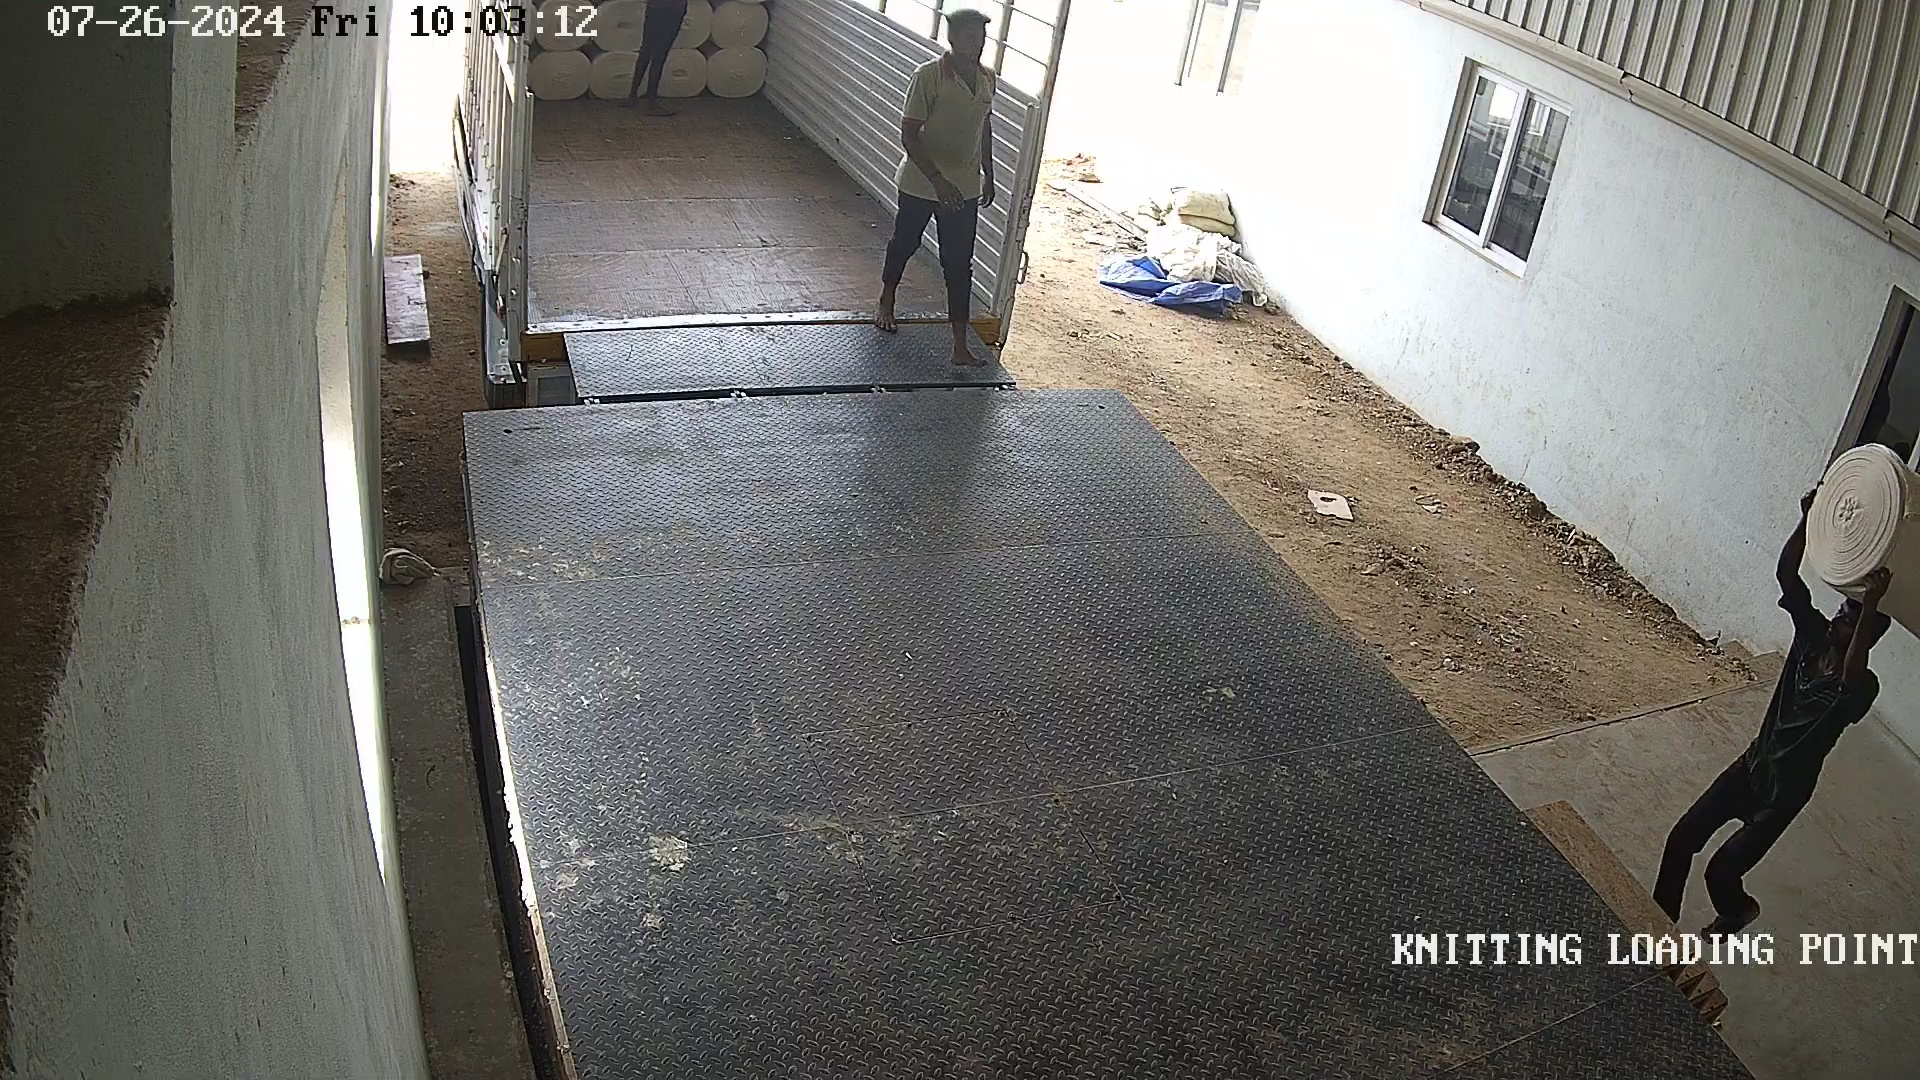bag: (1797, 436, 1920, 637)
